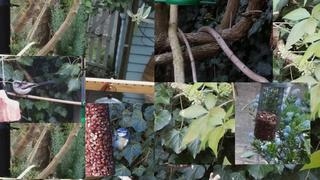blue tit: (109, 127, 130, 157)
long tailed tit: (11, 80, 57, 98)
